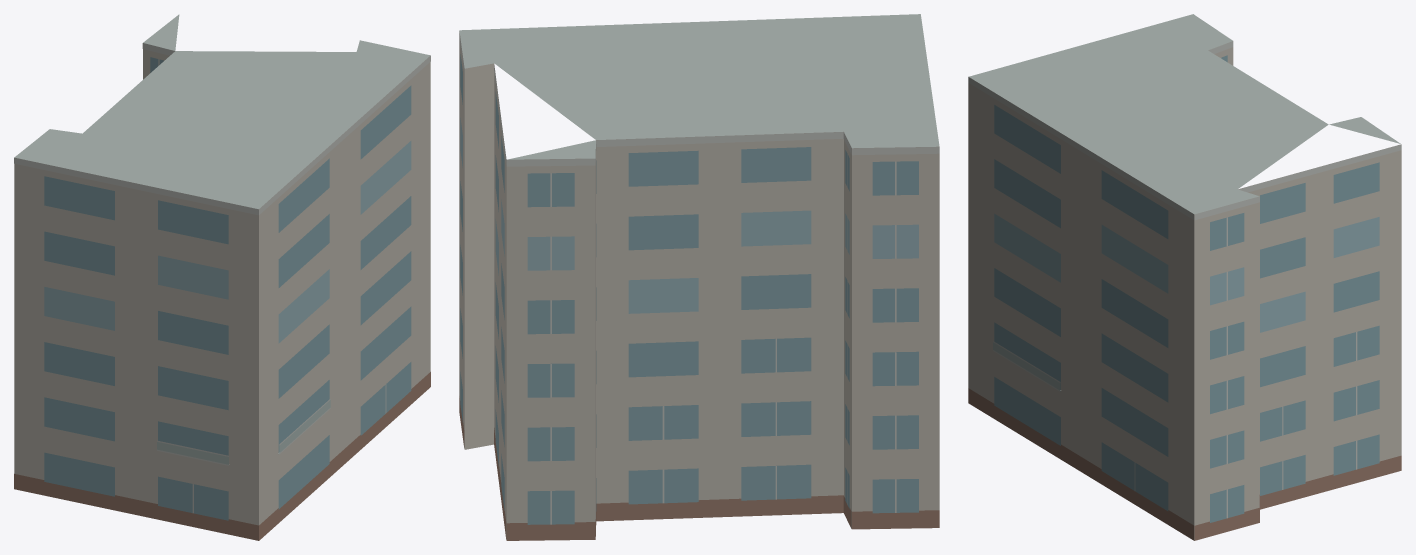
The model's file is survey-upis-32883466.glb.
3 views of the same model, side by side, from view 1: azimuth 30°, elevation 25°; view 2: azimuth 150°, elevation 25°; view 3: azimuth 270°, elevation 25° (orthographic). The views are drawn at different scales.
Visible parts, largest first — view 1: survey-upis-32883466.tmp; view 2: survey-upis-32883466.tmp; view 3: survey-upis-32883466.tmp.
Boxes of the visible parts, x1,y1,x2,y2 form: survey-upis-32883466.tmp: [14, 14, 430, 540]; survey-upis-32883466.tmp: [459, 14, 939, 540]; survey-upis-32883466.tmp: [968, 14, 1401, 540].
Bounding box in the file's own units: 17.39 × 13.2 × 15.88.
